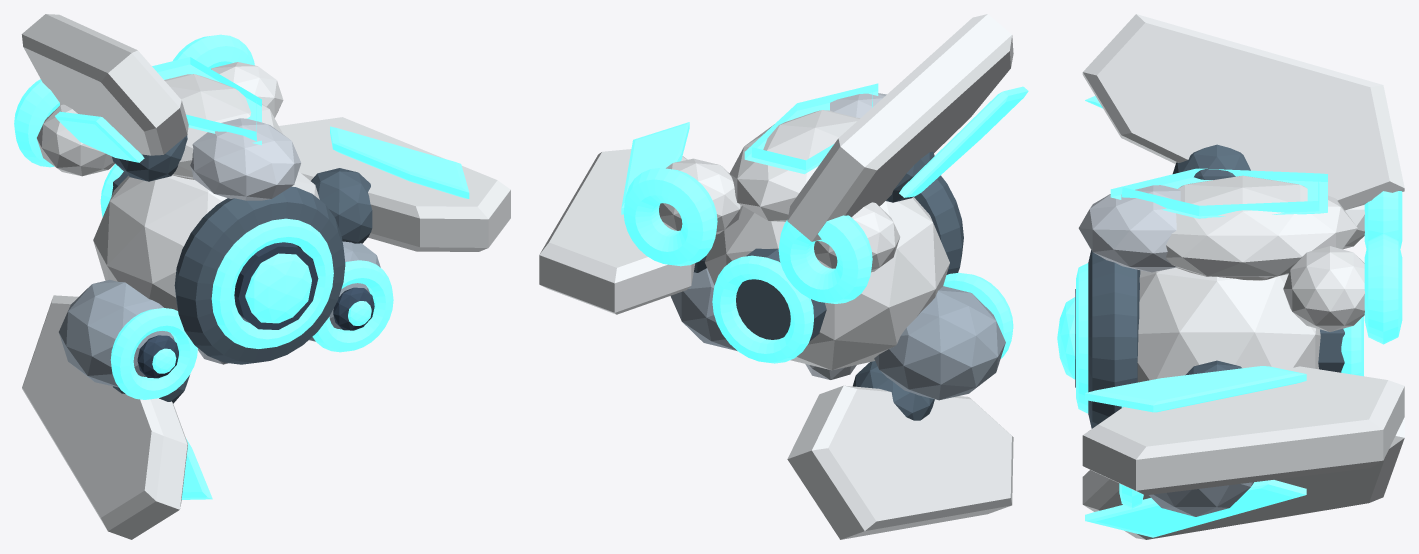
Rendered from drone_common.glb.
3 renders of one model, left to right at view 1: azimuth 30°, elevation 25°; view 2: azimuth 150°, elevation 25°; view 3: azimuth 270°, elevation 25°, orthographic. The views are drawn at different scales.
Visible parts, largest first — view 1: group_ivory, group_cyan, group_graphite, group_silver, group_steel, group_black; view 2: group_ivory, group_cyan, group_steel, group_graphite, group_silver; view 3: group_ivory, group_cyan, group_graphite, group_silver, group_steel.
Part boxes in pixels (x1,y1,x2,y2): group_ivory: (21,14,510,539); group_cyan: (14,34,469,499); group_graphite: (111,135,372,403); group_silver: (190,118,300,364); group_steel: (58,241,380,387); group_black: (137,242,374,378); group_ivory: (539,14,1013,539); group_cyan: (621,83,1028,363); group_steel: (670,268,1005,400); group_graphite: (694,151,963,420); group_silver: (805,93,886,379); group_ivory: (1082,14,1404,539); group_cyan: (1057,96,1402,537); group_graphite: (1088,144,1344,428); group_silver: (1078,185,1180,272); group_steel: (1149,482,1253,516).
Bounding box in the file's own units: 2.43 × 2.71 × 1.63.
